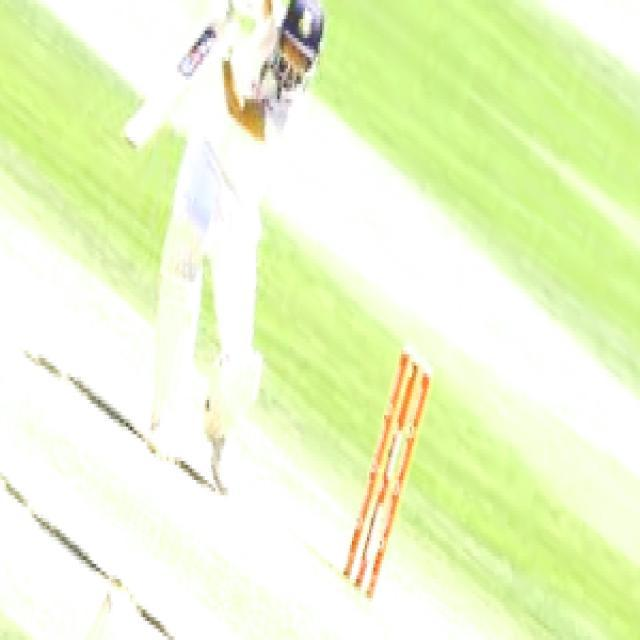bat: (117, 23, 217, 152)
toe: (118, 130, 155, 149)
